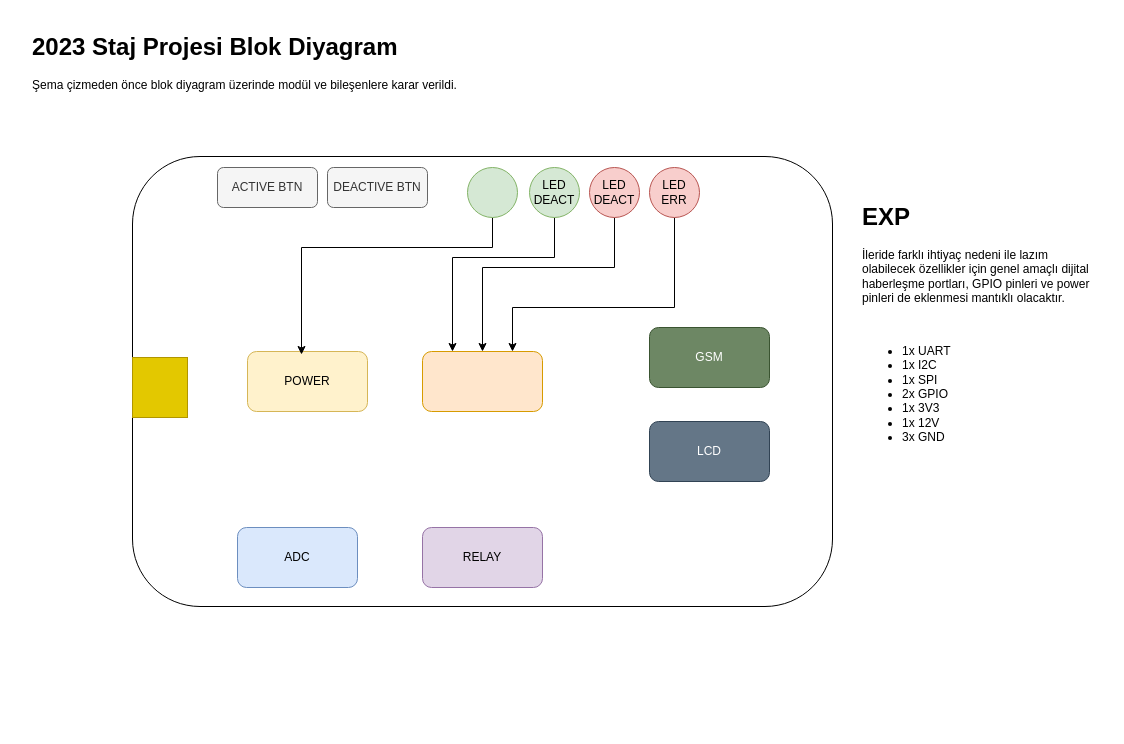
The diagram is 1124 pixels wide and 744 high, and some of its shapes have lost their labels. Each missing label, with the centre of its shape:
"LED PWR" goes at point 492,192.
"MCU" goes at point 482,381.
"USB (VCP)" goes at point 160,387.
